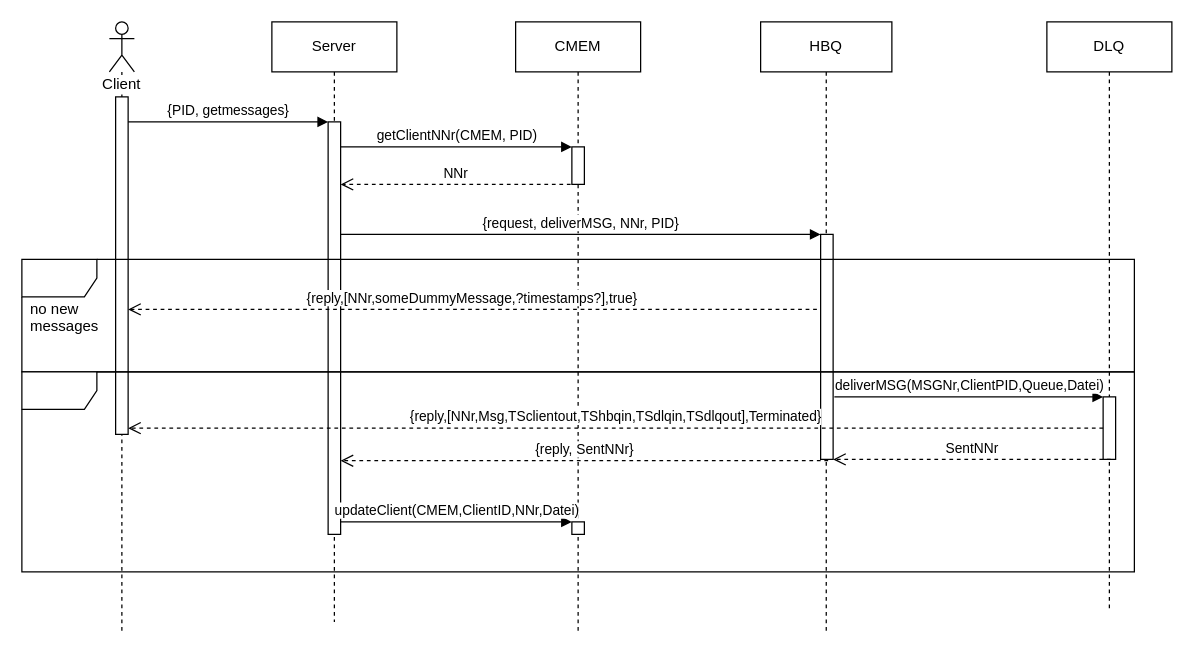
Image size: 1194x656. Some labels were removed from this diagram. The box of each missing label's shape, as (x1, y1, x2, y2) in pixels:
ELSE: (21, 371, 1134, 572)
IF: (21, 258, 1134, 372)
